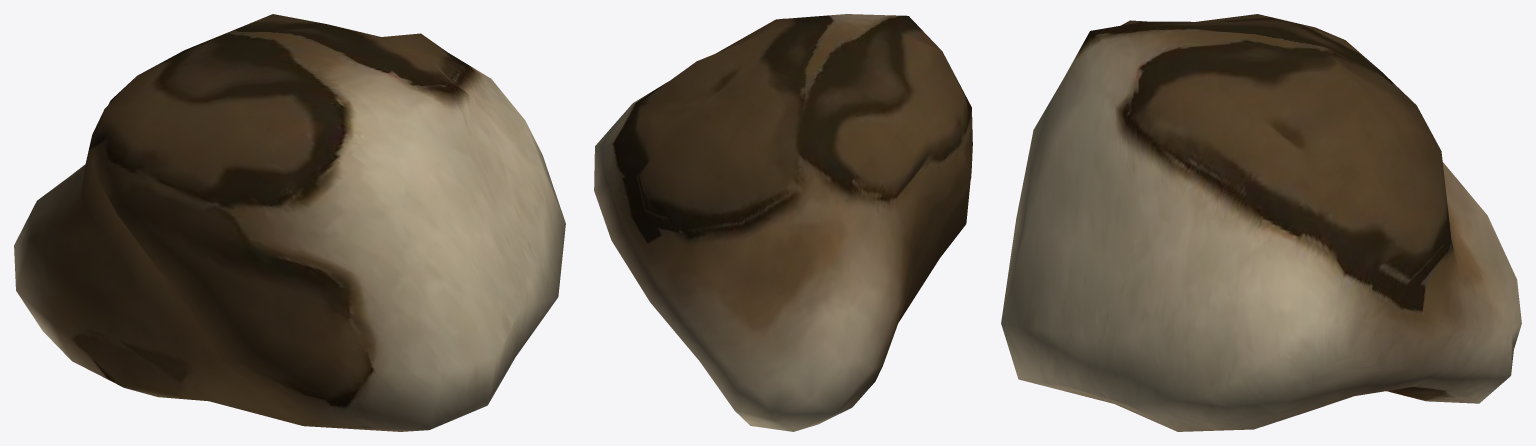
Rendered from Distal_Carpal_IV.glb.
3 renders of one model, left to right at view 1: azimuth 30°, elevation 25°; view 2: azimuth 150°, elevation 25°; view 3: azimuth 270°, elevation 25°, orthographic. The views are drawn at different scales.
Parts seen in each view (by area): view 1: Distal_Carpal_IV_Left1:Distal_Carpal_IV_Left; view 2: Distal_Carpal_IV_Left1:Distal_Carpal_IV_Left; view 3: Distal_Carpal_IV_Left1:Distal_Carpal_IV_Left.
Boxes of the visible parts, <box> form: Distal_Carpal_IV_Left1:Distal_Carpal_IV_Left: <box>14,14,565,431</box>; Distal_Carpal_IV_Left1:Distal_Carpal_IV_Left: <box>594,14,972,431</box>; Distal_Carpal_IV_Left1:Distal_Carpal_IV_Left: <box>1001,14,1521,431</box>.
Size of the model in its own units: 12.42 by 10.31 by 12.67.
1 material, 1 textured.
